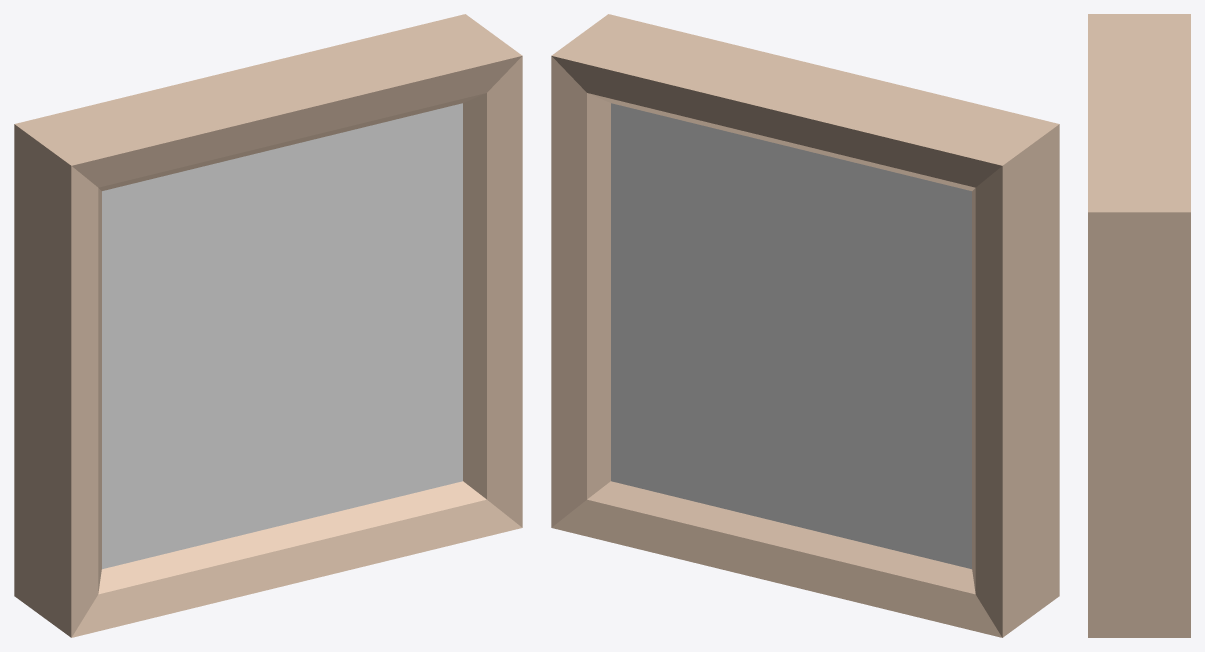
Rendered from wall2.fbx.
3 renders of one model, left to right at view 1: azimuth 30°, elevation 25°; view 2: azimuth 150°, elevation 25°; view 3: azimuth 270°, elevation 25°, orthographic. The views are drawn at different scales.
Visible parts, largest first — view 1: Cube; view 2: Cube; view 3: Cube.
Part boxes in pixels (x1=…): Cube: x1=14, y1=14, x2=522, y2=637; Cube: x1=551, y1=14, x2=1059, y2=637; Cube: x1=1088, y1=14, x2=1190, y2=637.
Bounding box in the file's own units: 200 × 200 × 43.84.
